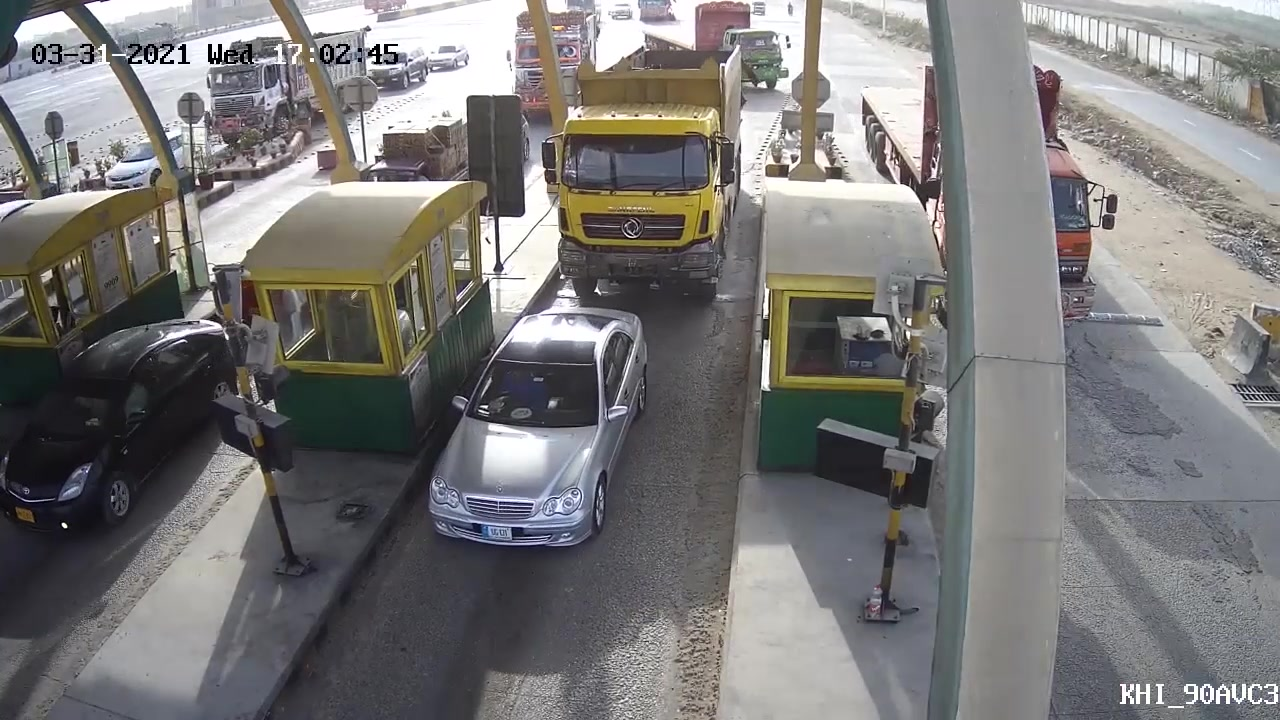F1: (426, 300, 659, 585)
F5: (546, 40, 754, 302)
